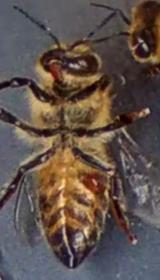varroa_mite: (78, 162, 106, 198)
